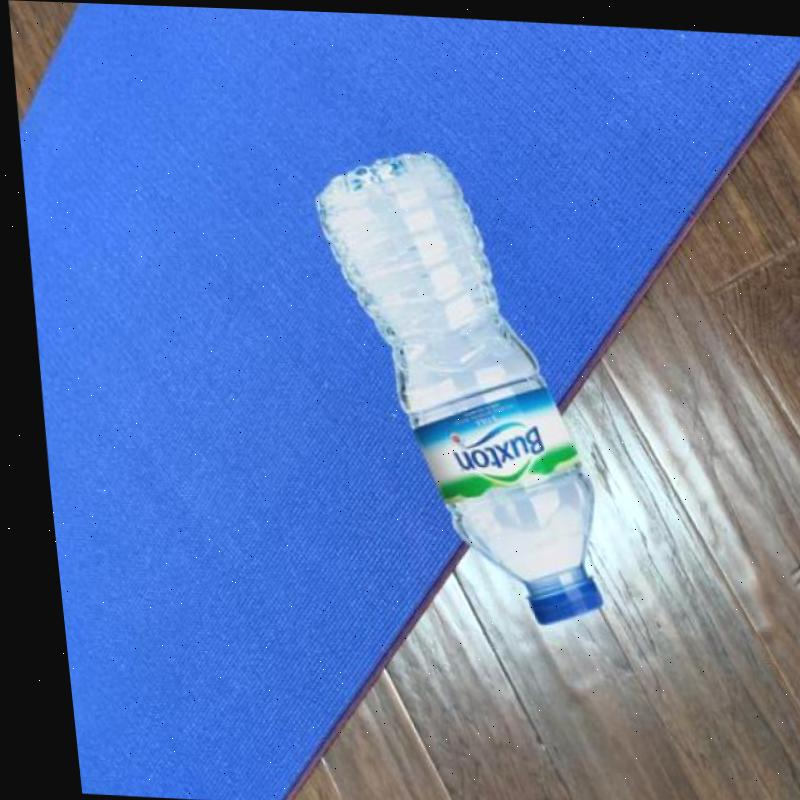botella: (300, 144, 598, 623)
